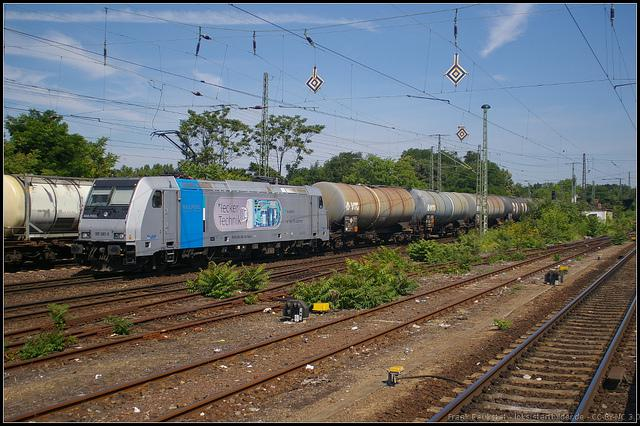Train: (81, 177, 335, 274), (4, 175, 96, 266)
